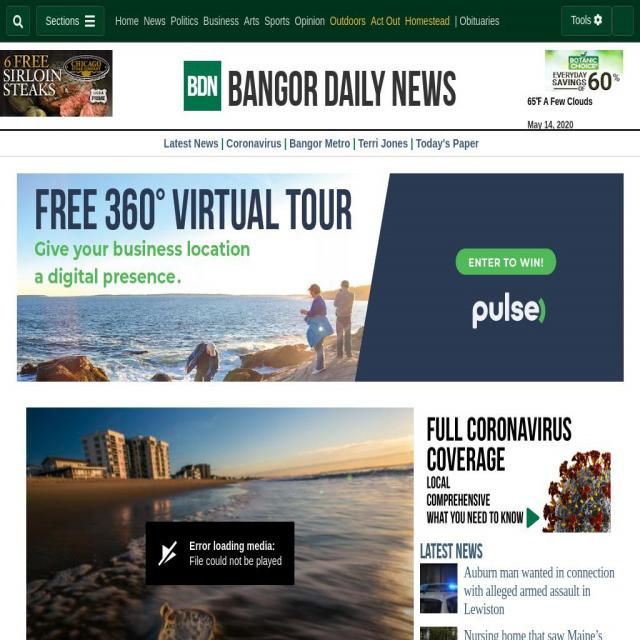navigation-blocks: (422, 558, 618, 640)
navigation-links: (159, 122, 481, 162), (114, 7, 502, 35)
options: (40, 10, 108, 37), (564, 8, 621, 37)
search: (5, 4, 31, 34)
video: (23, 400, 415, 640)
